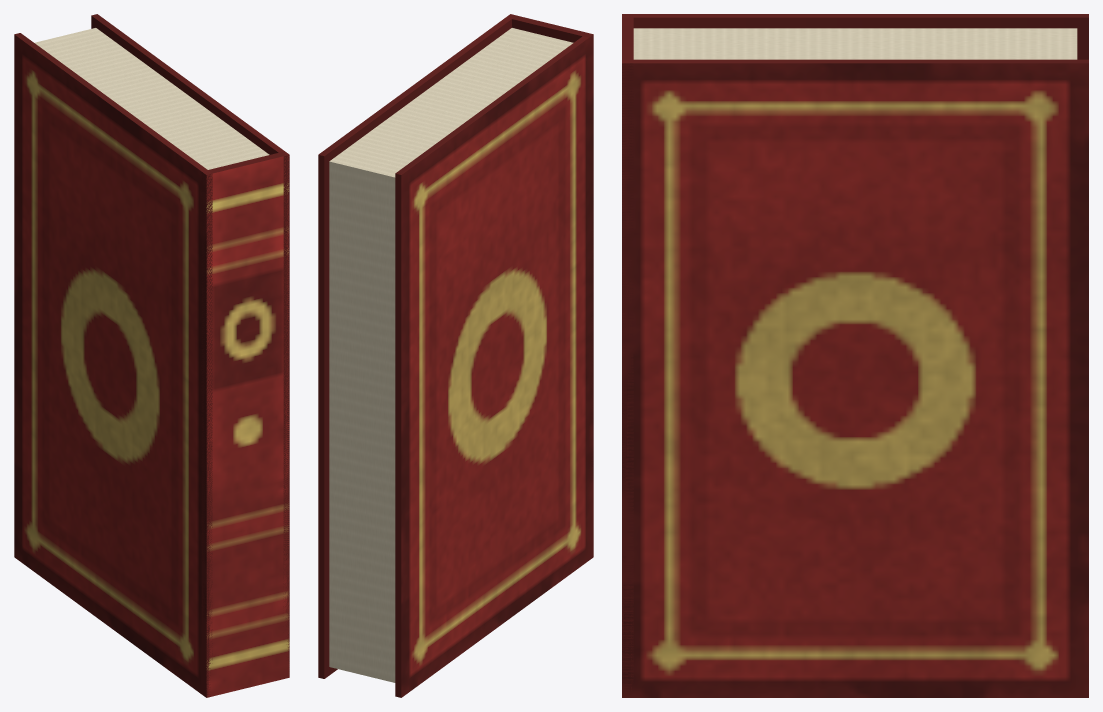
File: Book_s0_e0_v1.glb
3 views of the same model, side by side, from view 1: azimuth 30°, elevation 25°; view 2: azimuth 150°, elevation 25°; view 3: azimuth 270°, elevation 25° (orthographic). The views are drawn at different scales.
Visible parts, largest first — view 1: Book_s0_e0_v1; view 2: Book_s0_e0_v1; view 3: Book_s0_e0_v1.
Boxes of the visible parts, x1,y1,x2,y2 form: Book_s0_e0_v1: (14, 14, 289, 697); Book_s0_e0_v1: (318, 14, 593, 697); Book_s0_e0_v1: (622, 14, 1088, 697).
Size of the model in its own units: 0.04 by 0.24 by 0.16.
Materials: 1 (1 with a texture image).
